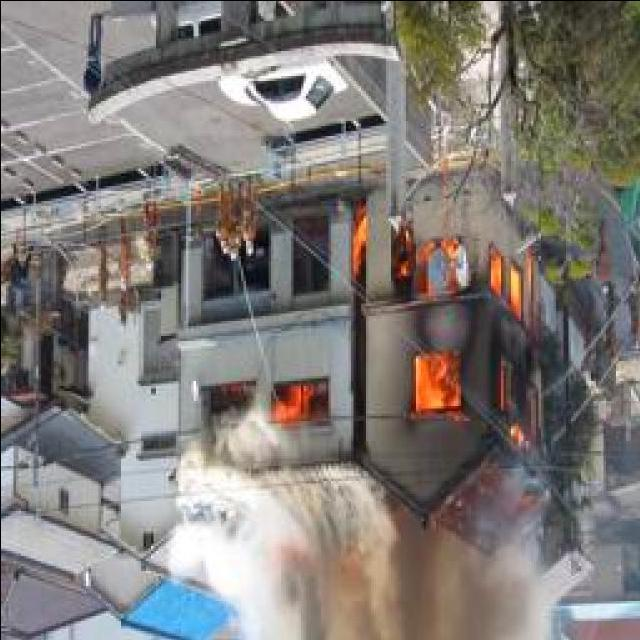Fire: (335, 208, 541, 460), (199, 377, 321, 426)
